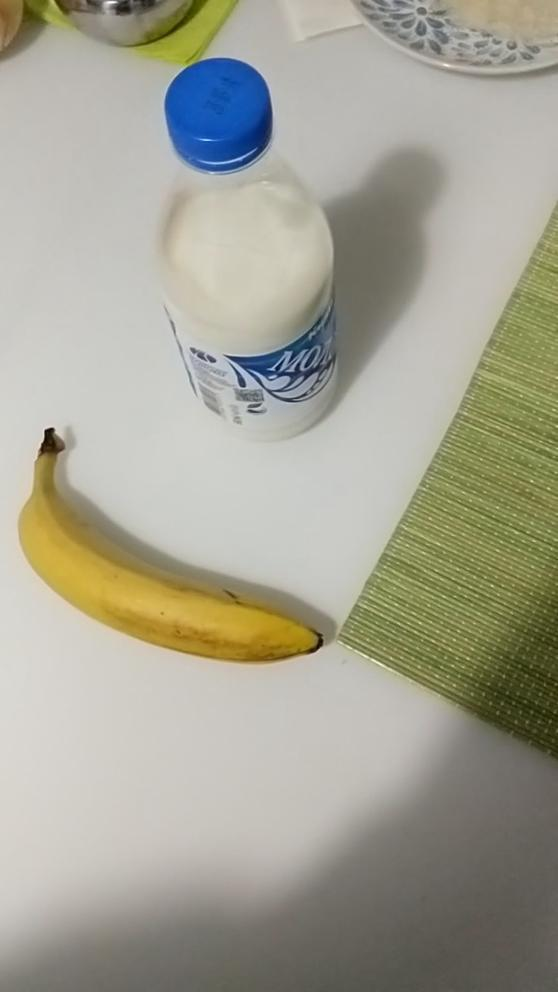banana: (9, 415, 378, 685)
milk: (135, 38, 391, 444)
